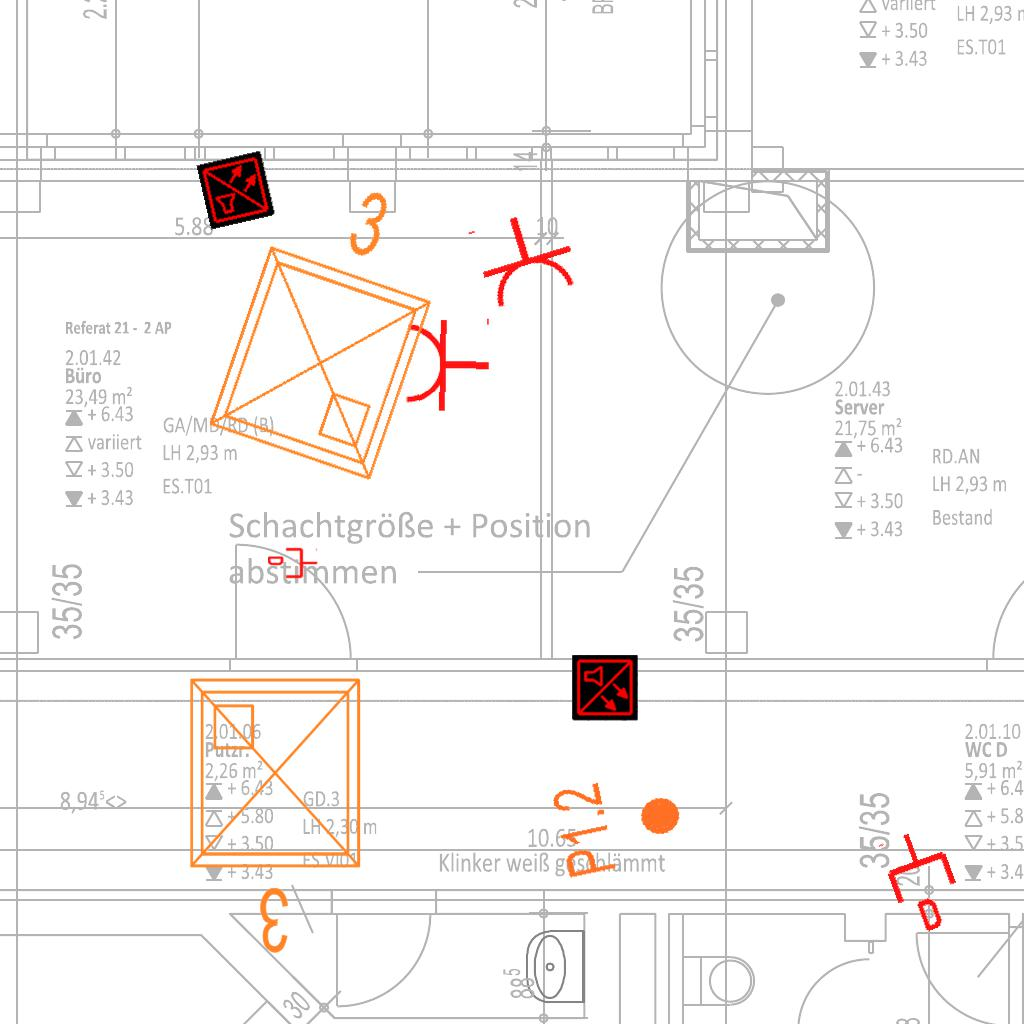Datenanschluss_einfach: (872, 821, 973, 939), (268, 546, 318, 580)
Downlight_LED_Einbauleuchten_Flur: (547, 764, 692, 882)
Einbaudownlights_LED_Konferenzraeume: (182, 147, 478, 499), (175, 664, 383, 964)
OKW_Multisensormelder_(Kombination_optischer_Rauch-Kahlenmonoxid_Waerme-Melder): (196, 150, 276, 230), (572, 655, 638, 721)
Schukosteckdose_einfach: (462, 201, 585, 315), (403, 312, 492, 414)
